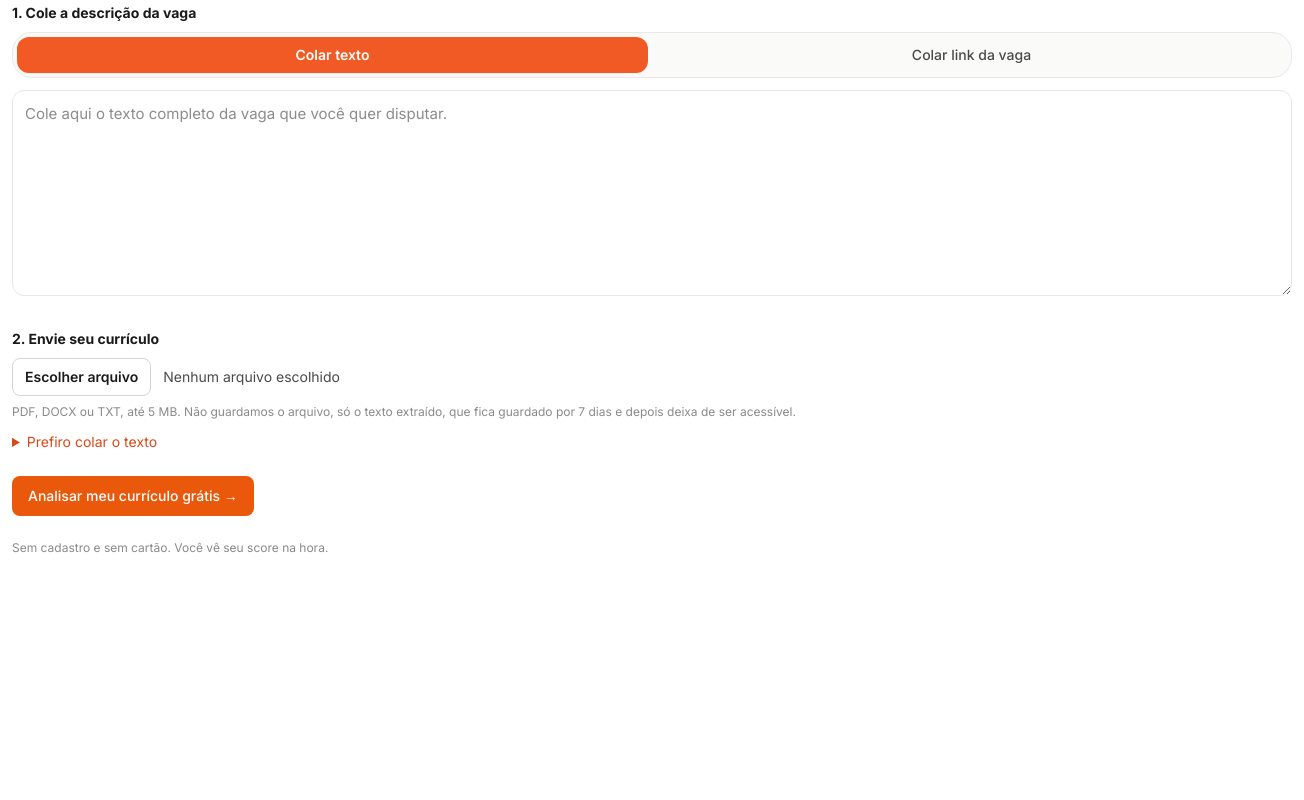
Test case: <AnonAtsForm /> — vaga por link › falha: mostra o erro do servidor, continua no modo link e registra o motivo e só o domínio
Step 1. Click the tab "Colar link da vaga" → (972, 55), box [656, 37, 1287, 73]
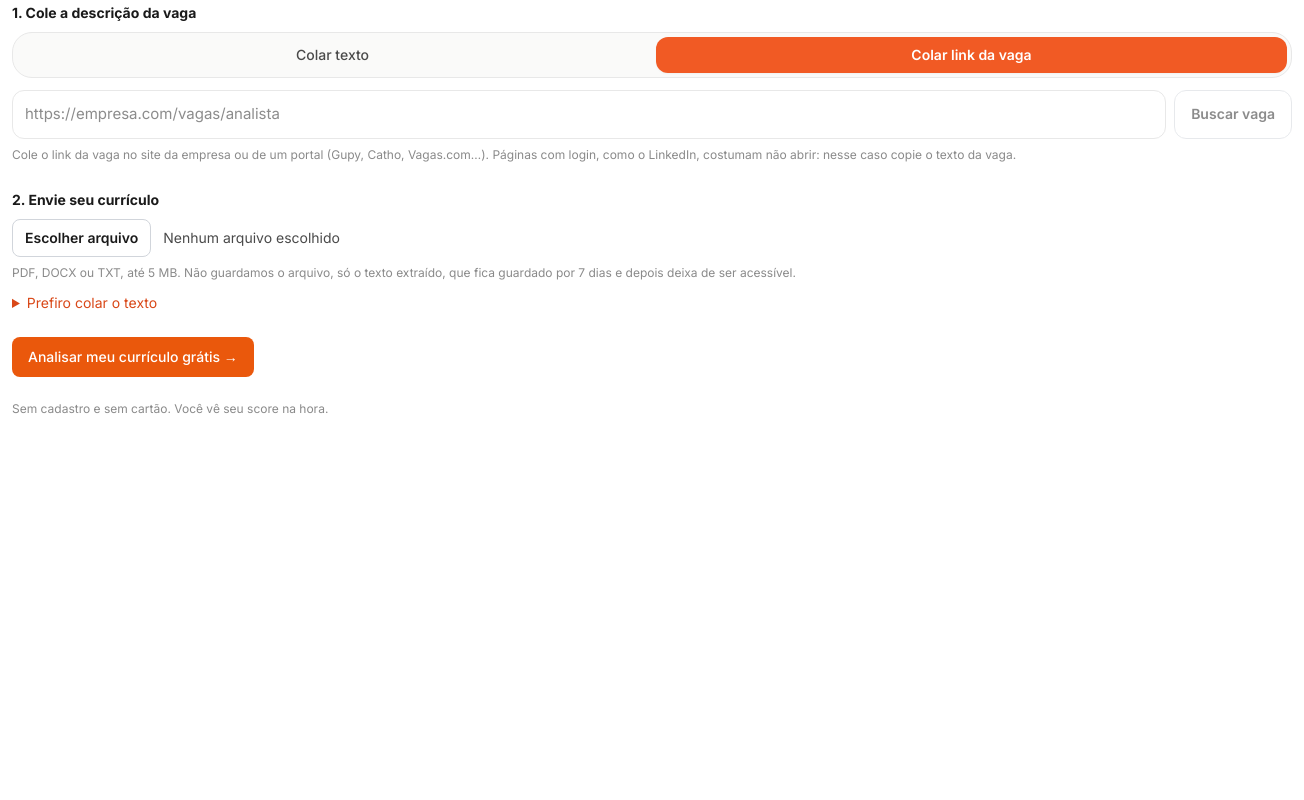
Step 2. Type "https://www.positivo.gupy.io/jobs/123?token=segredo" into the field named "link da vaga" → (589, 114), box [12, 90, 1166, 138]
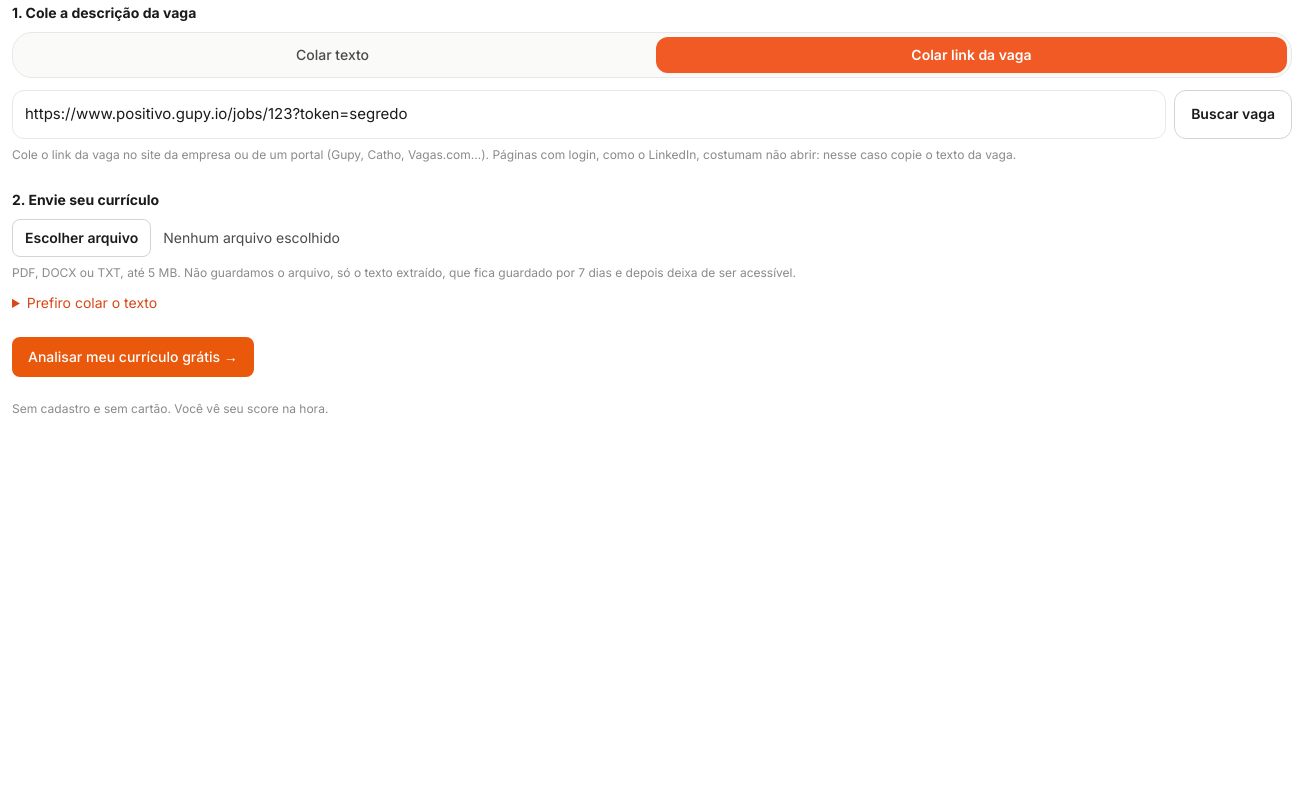
Step 3. Click the button "Buscar vaga" → (1233, 114), box [1174, 90, 1292, 138]
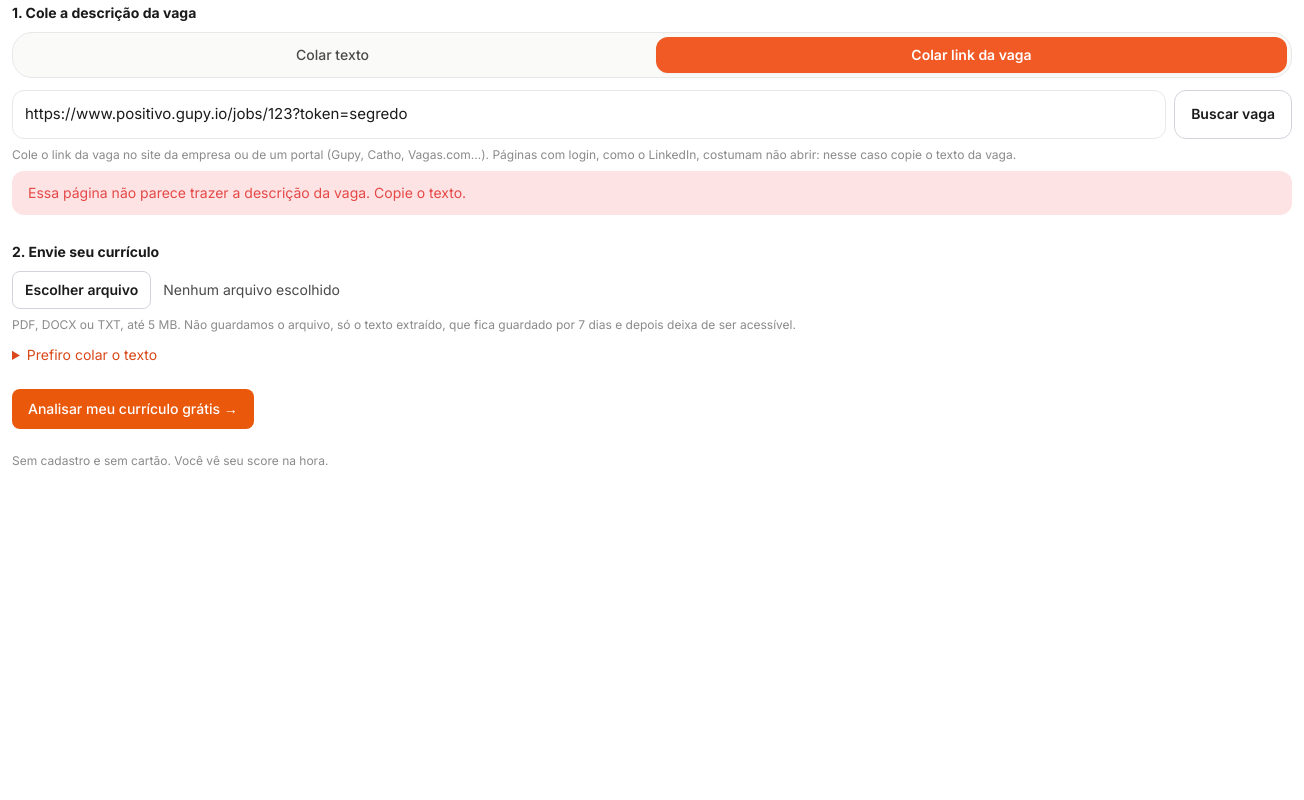
Expected: the button "Buscar vaga" is enabled, [1174, 90, 1292, 138]
Expected: the field named "link da vaga" is enabled, [12, 90, 1166, 138]
Expected: the message shows "não parece trazer a descrição", [28, 184, 466, 200]
